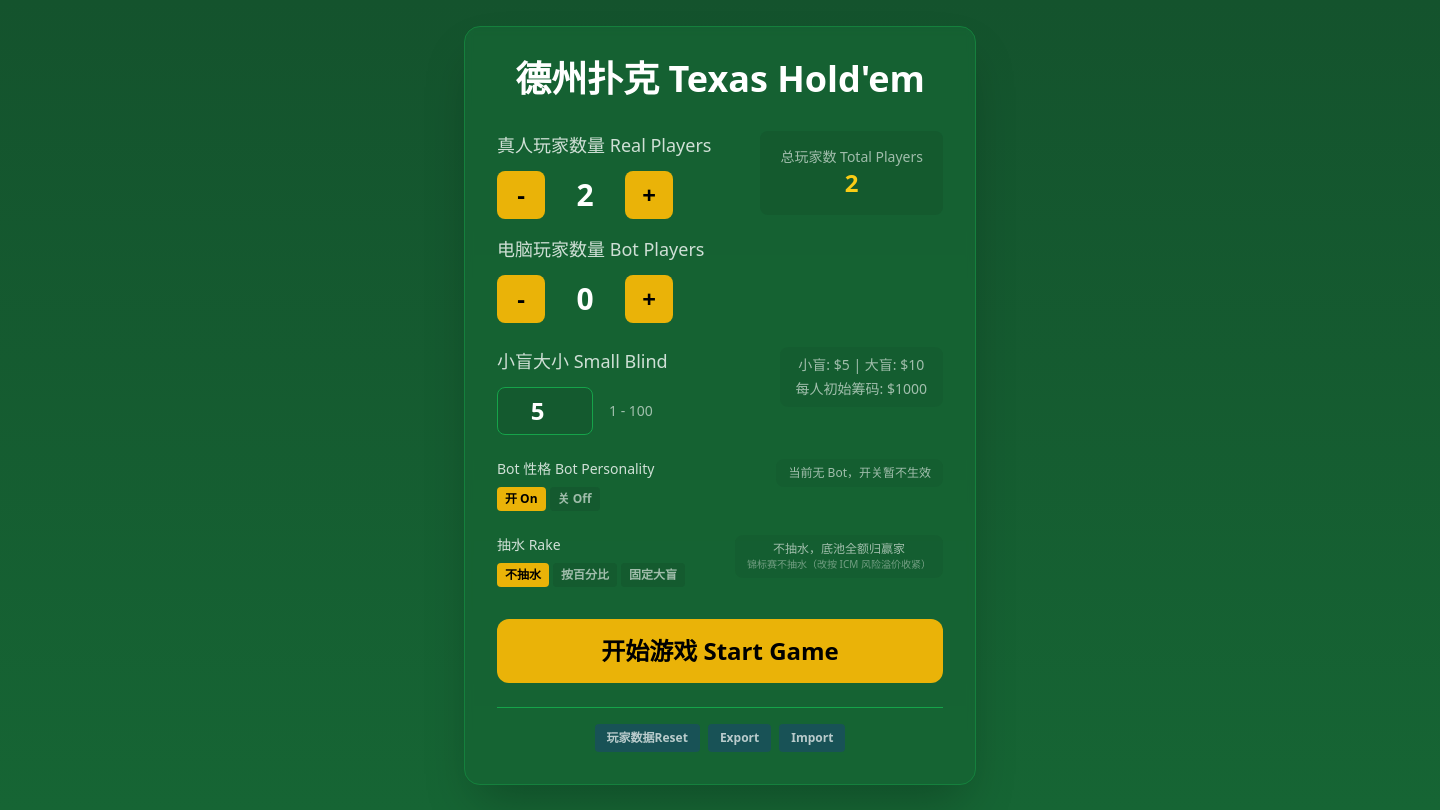
Test: StartPage 抽水配置 › 数值超上限被夹到上限（比例上限 20）
The image size is (1440, 810).
Click the button "按百分比": (585, 574) [553,562,617,586]
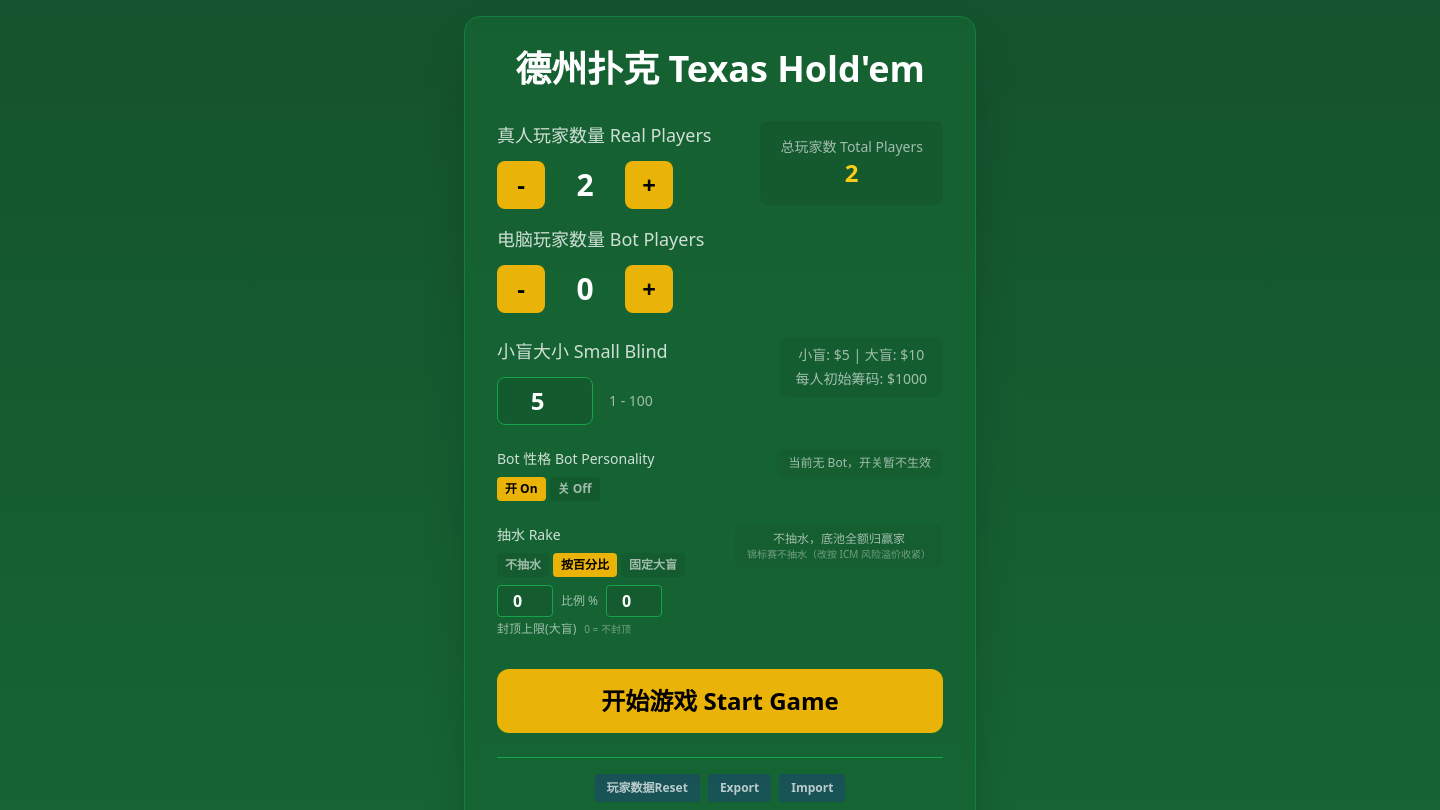
Replace the text in the number field named "抽水数值" with "999": (525, 601) [497,585,553,617]
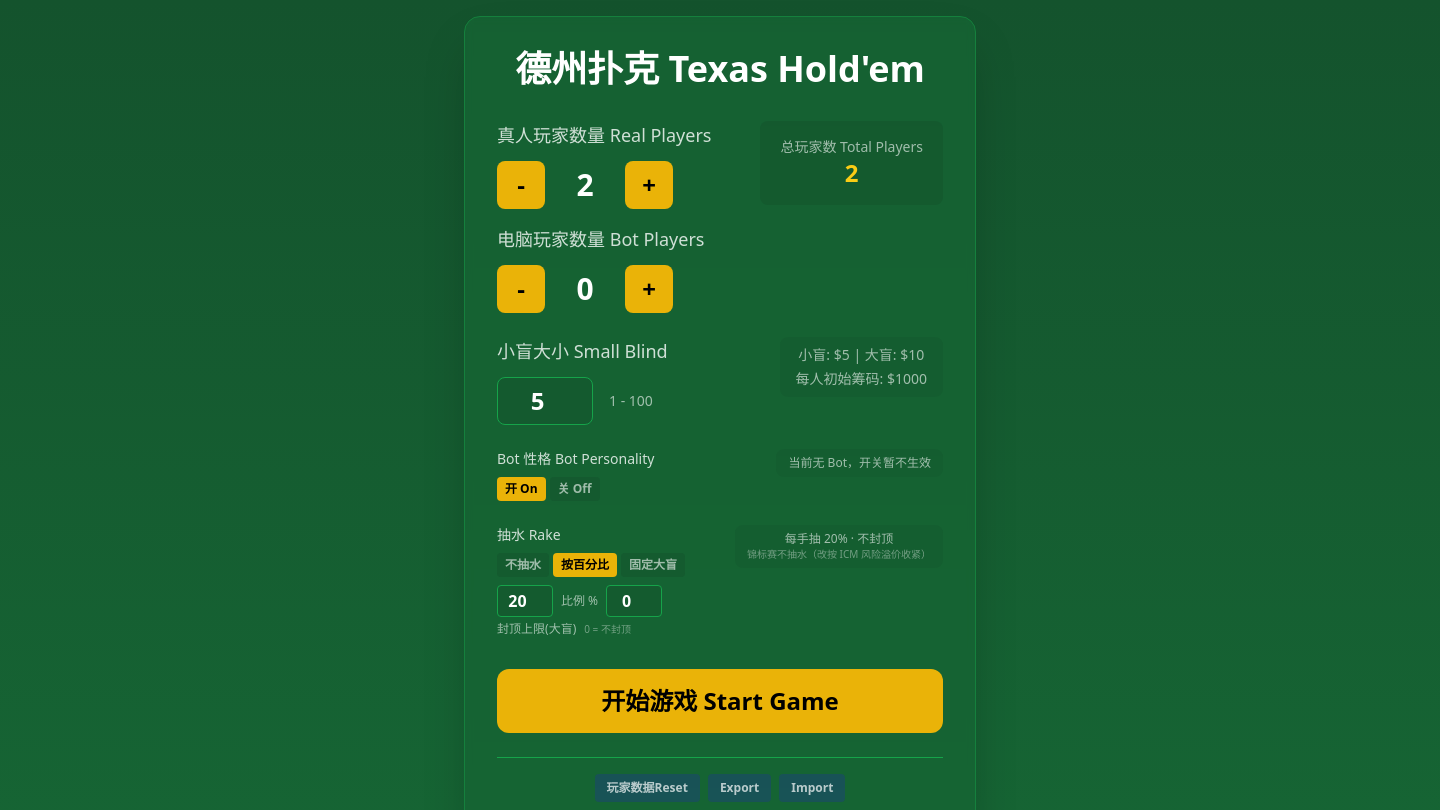
Expected: the number field named "抽水数值" holds "20", [497,585,553,617]
